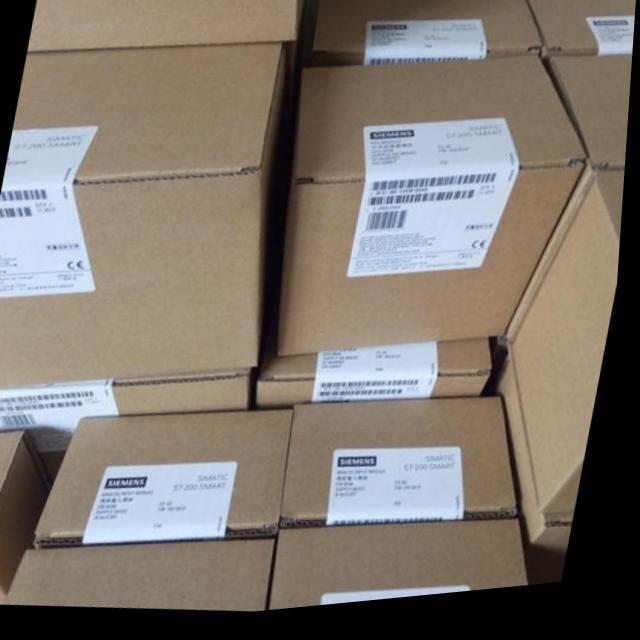box: (0, 46, 290, 389), (277, 65, 590, 359), (513, 180, 628, 529), (508, 68, 634, 358), (41, 415, 299, 546), (0, 373, 257, 493), (286, 405, 523, 534), (276, 531, 534, 616), (13, 541, 285, 616), (493, 361, 579, 573), (310, 0, 545, 75), (258, 347, 494, 412), (27, 0, 306, 51), (0, 434, 58, 604), (522, 0, 637, 68)
